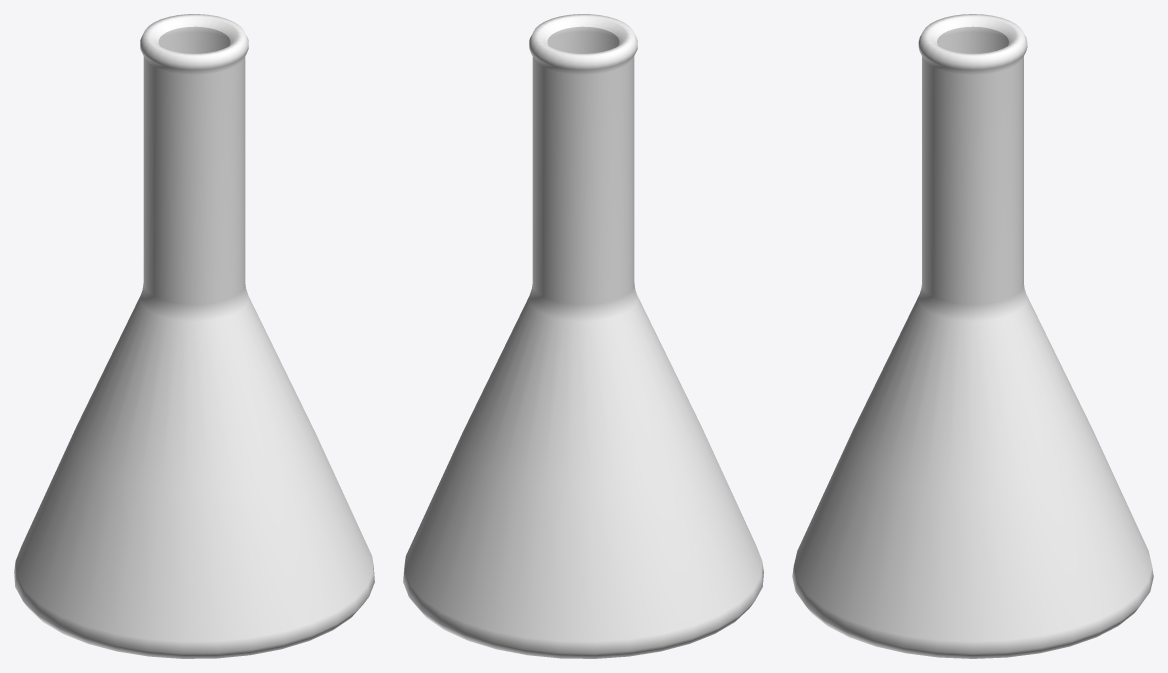
The model's file is Beaker01.fbx.
3 views of the same model, side by side, from view 1: azimuth 30°, elevation 25°; view 2: azimuth 150°, elevation 25°; view 3: azimuth 270°, elevation 25° (orthographic).
Visible parts, largest first — view 1: Cylinder.028; view 2: Cylinder.028; view 3: Cylinder.028.
Boxes of the visible parts, x1=… form: Cylinder.028: x1=14, y1=14, x2=374, y2=658; Cylinder.028: x1=403, y1=14, x2=763, y2=658; Cylinder.028: x1=792, y1=14, x2=1153, y2=658.
Size of the model in its own units: 0.0361 by 0.0361 by 0.0609.
